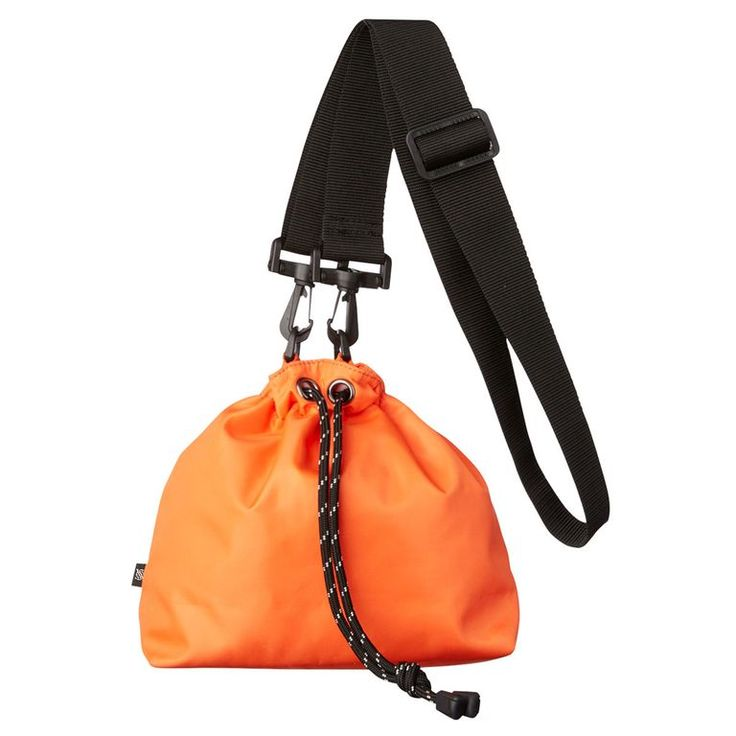nylon: (139, 18, 611, 670)
